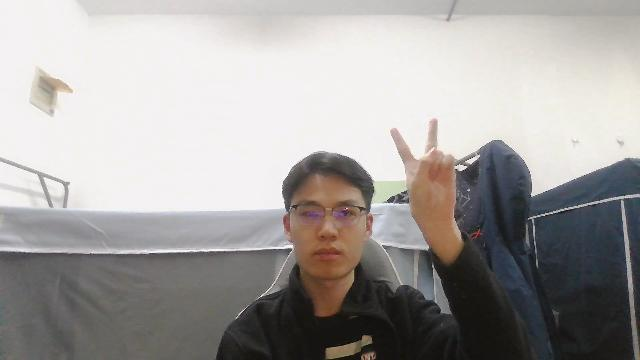two: (388, 117, 459, 216)
